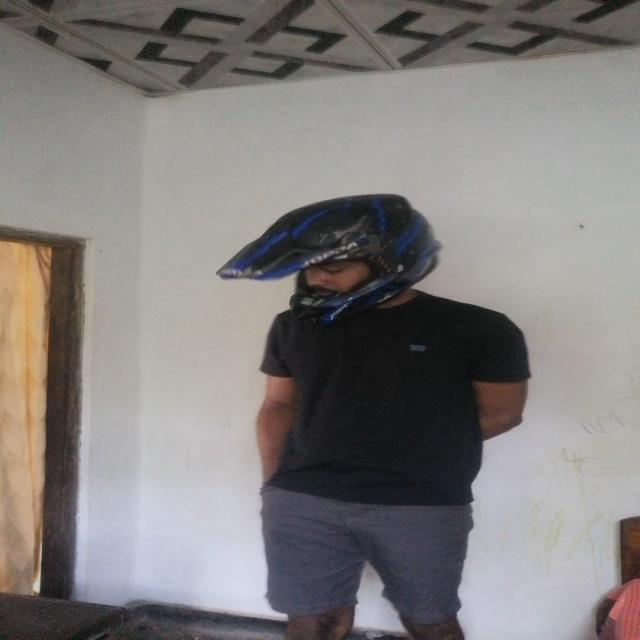Helmet_Wearer: (200, 190, 460, 319)
Person: (244, 193, 538, 640)
